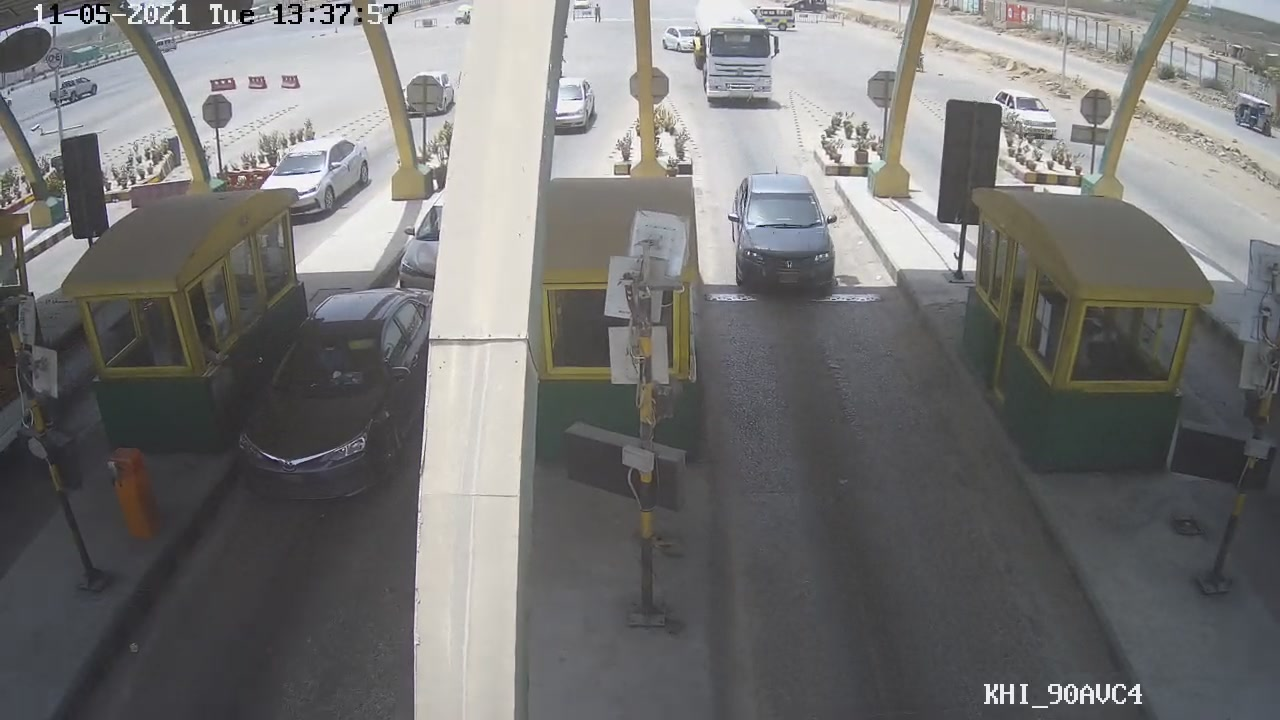F1: (722, 169, 842, 303)
